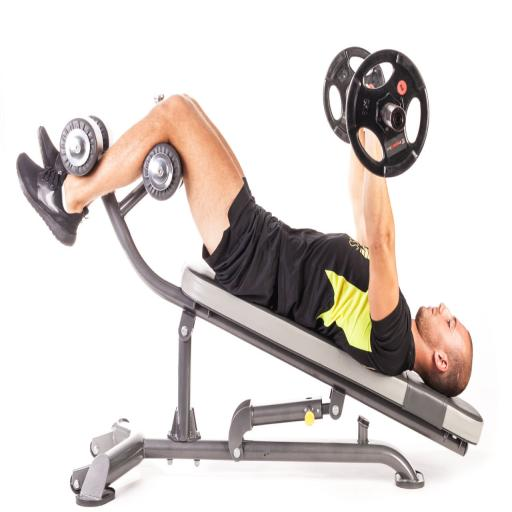exercise: (15, 74, 475, 402)
